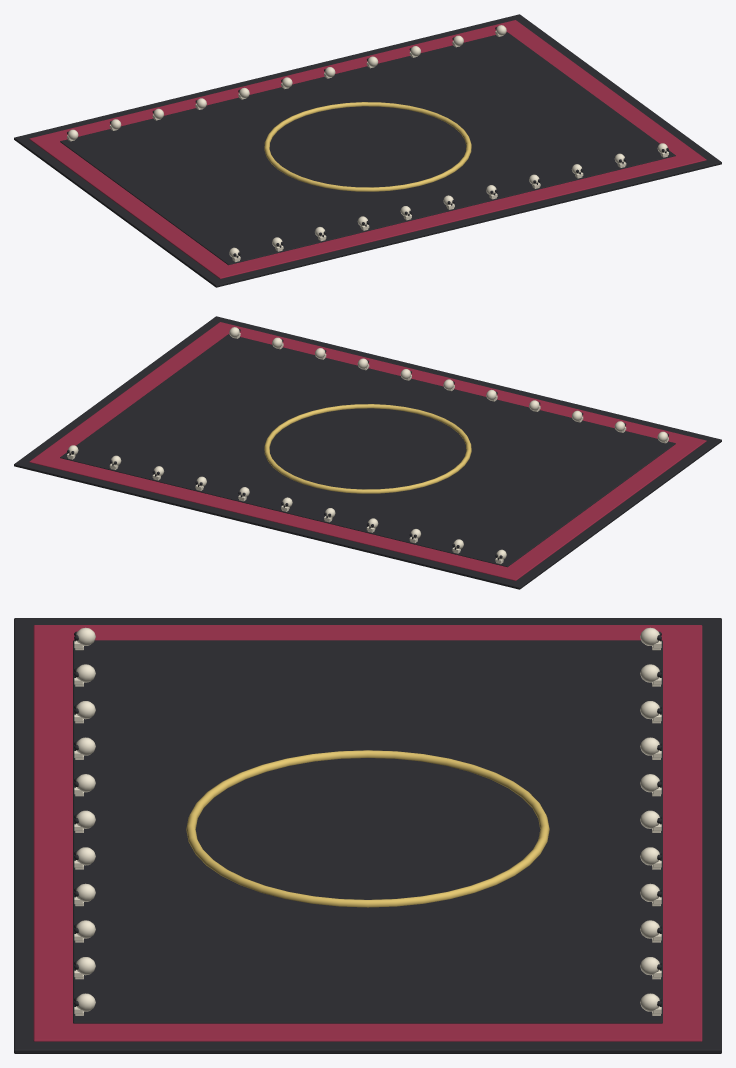
Rendered from rug_skull_border.glb.
3 views of the same model, one above another, from view 1: azimuth 30°, elevation 25°; view 2: azimuth 150°, elevation 25°; view 3: azimuth 270°, elevation 25° (orthographic). The views are drawn at different scales.
Visible parts, largest first — view 1: GD_rug_skull_border__m0, GD_rug_skull_border__m1, GD_rug_skull_border__m2, GD_rug_skull_border__m4; view 2: GD_rug_skull_border__m0, GD_rug_skull_border__m1, GD_rug_skull_border__m2, GD_rug_skull_border__m4; view 3: GD_rug_skull_border__m0, GD_rug_skull_border__m1, GD_rug_skull_border__m2, GD_rug_skull_border__m4.
Boxes of the visible parts, box(x1,y1,x2,y2) form: GD_rug_skull_border__m0: box(14, 14, 721, 287); GD_rug_skull_border__m1: box(29, 20, 706, 278); GD_rug_skull_border__m2: box(67, 25, 668, 262); GD_rug_skull_border__m4: box(264, 102, 471, 191); GD_rug_skull_border__m0: box(14, 316, 721, 589); GD_rug_skull_border__m1: box(29, 322, 706, 580); GD_rug_skull_border__m2: box(67, 327, 668, 564); GD_rug_skull_border__m4: box(264, 404, 471, 493); GD_rug_skull_border__m0: box(14, 618, 721, 1053); GD_rug_skull_border__m1: box(33, 625, 702, 1041); GD_rug_skull_border__m2: box(74, 627, 661, 1015); GD_rug_skull_border__m4: box(186, 750, 549, 907).
Size of the model in its own units: 2.6 by 0.0749 by 1.8.
